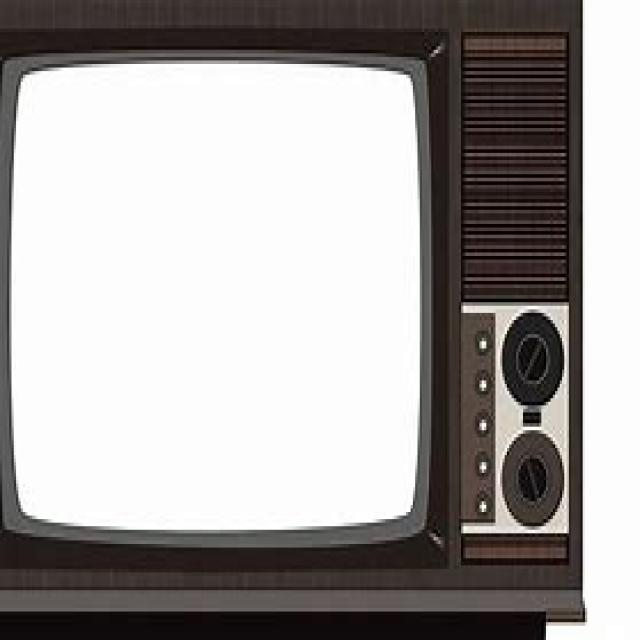tv: (0, 0, 585, 633)
